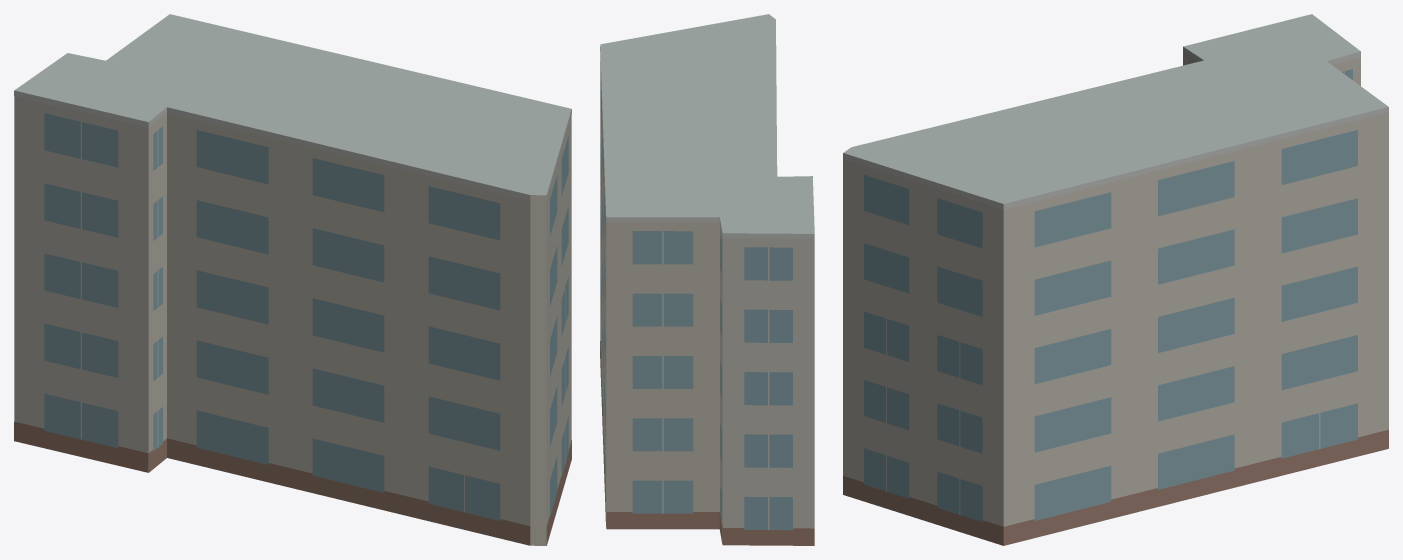
Rendered from survey-upis-32771133.glb.
3 renders of one model, left to right at view 1: azimuth 30°, elevation 25°; view 2: azimuth 150°, elevation 25°; view 3: azimuth 270°, elevation 25°, orthographic. The views are drawn at different scales.
Parts seen in each view (by area): view 1: survey-upis-32771133.tmp; view 2: survey-upis-32771133.tmp; view 3: survey-upis-32771133.tmp.
Boxes of the visible parts, <box> form: survey-upis-32771133.tmp: <box>14,14,571,545</box>; survey-upis-32771133.tmp: <box>600,14,814,545</box>; survey-upis-32771133.tmp: <box>843,14,1388,545</box>.
Size of the model in its own units: 18.19 by 15.25 by 22.07.
